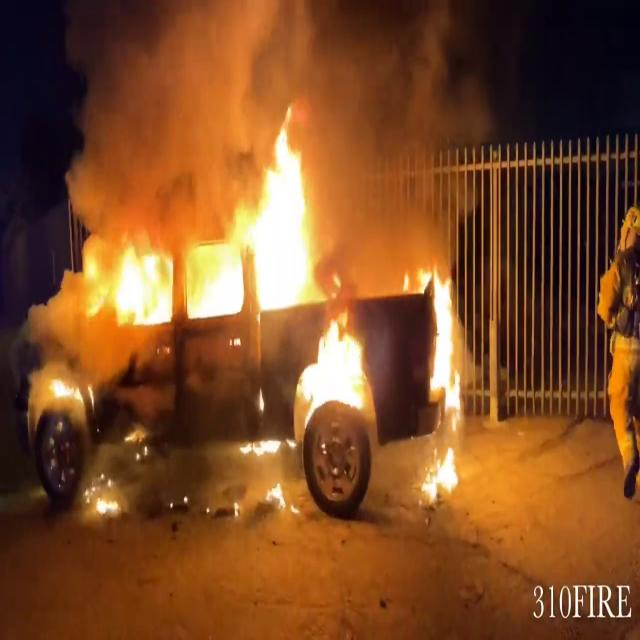Fire: (87, 110, 336, 332), (289, 312, 375, 432), (424, 260, 466, 418), (417, 440, 461, 502), (83, 480, 125, 520)
Smoke: (57, 1, 491, 243), (57, 0, 253, 218)
